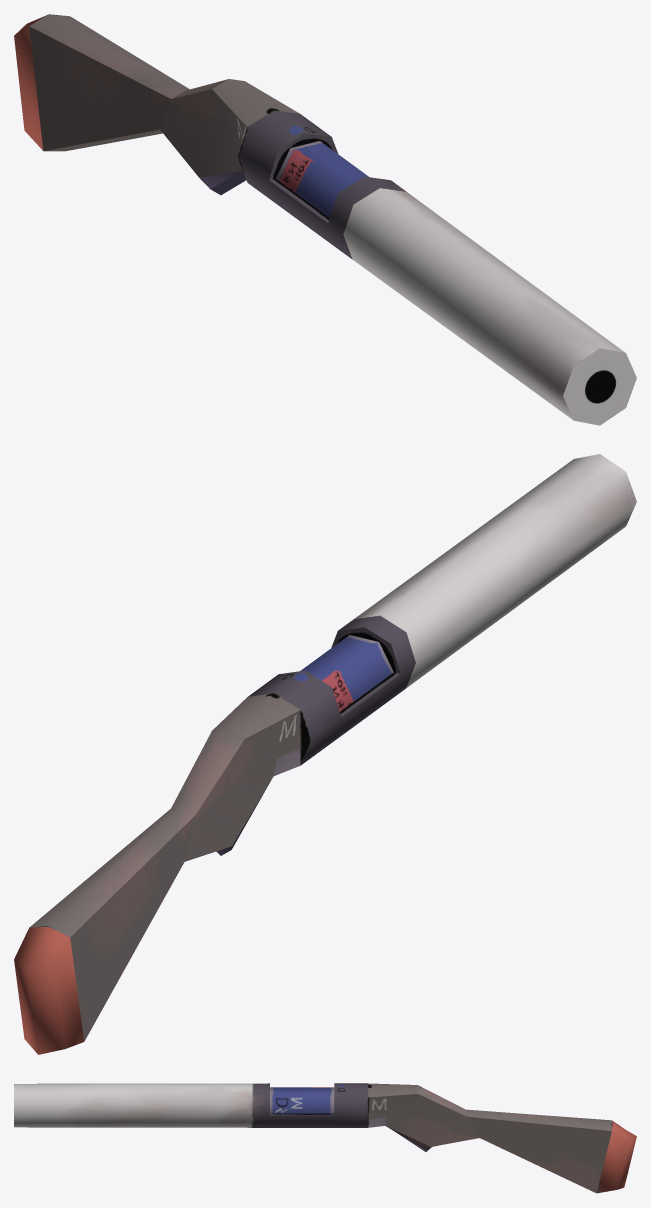
File: Battery_Gun.glb
3 views of the same model, one above another, from view 1: azimuth 30°, elevation 25°; view 2: azimuth 150°, elevation 25°; view 3: azimuth 270°, elevation 25° (orthographic). The views are drawn at different scales.
Visible parts, largest first — view 1: Battery Gun LP; view 2: Battery Gun LP; view 3: Battery Gun LP.
Part boxes in pixels (box(x1,y1,x2,y2)): Battery Gun LP: box(14, 14, 636, 425); Battery Gun LP: box(14, 454, 636, 1054); Battery Gun LP: box(14, 1083, 636, 1193).
Size of the model in its own units: 0.0864 by 0.2179 by 1.16.
Materials: 1 (1 with a texture image).
